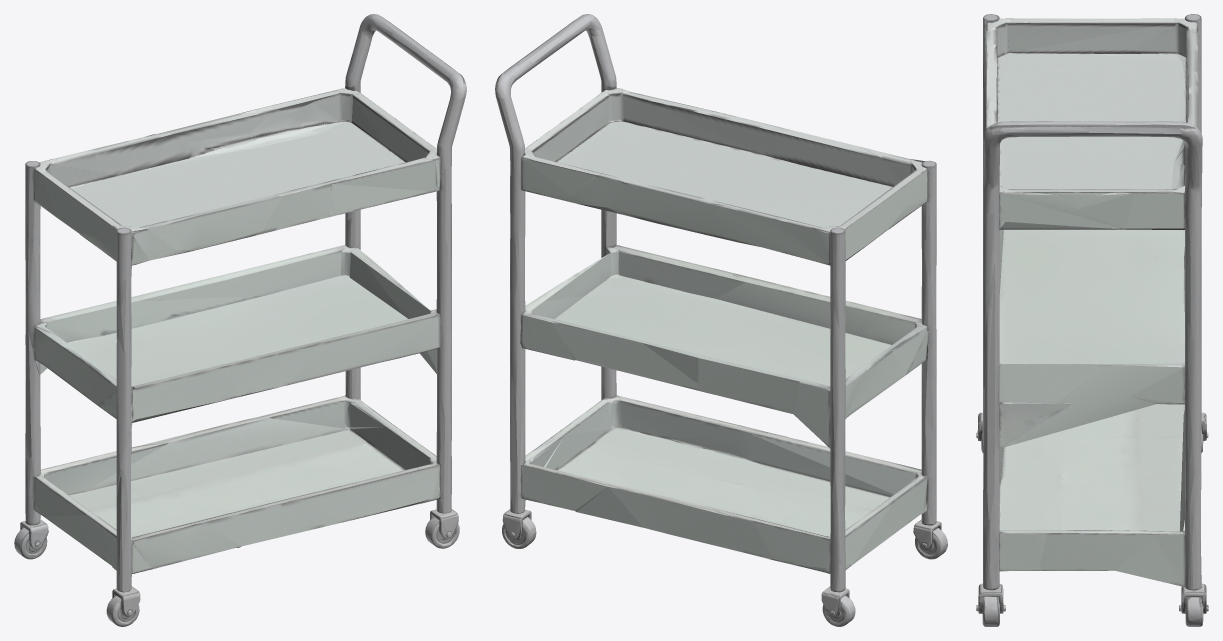
File: raw_shelf_cart_3tier.glb
The picture shows the model from 3 angles, left to right: view 1: azimuth 30°, elevation 25°; view 2: azimuth 150°, elevation 25°; view 3: azimuth 270°, elevation 25°; orthographic projection. The views are drawn at different scales.
Size of the model in its own units: 1.54 by 1.9 by 0.7807.
1 material, 1 textured.
